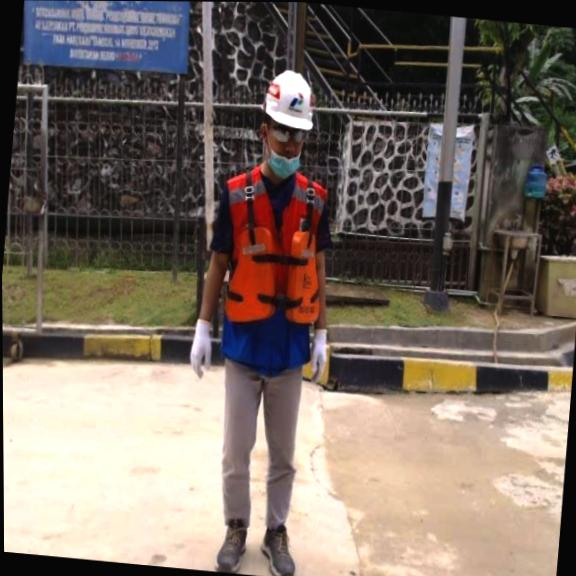safety_vest: (223, 223, 327, 334)
